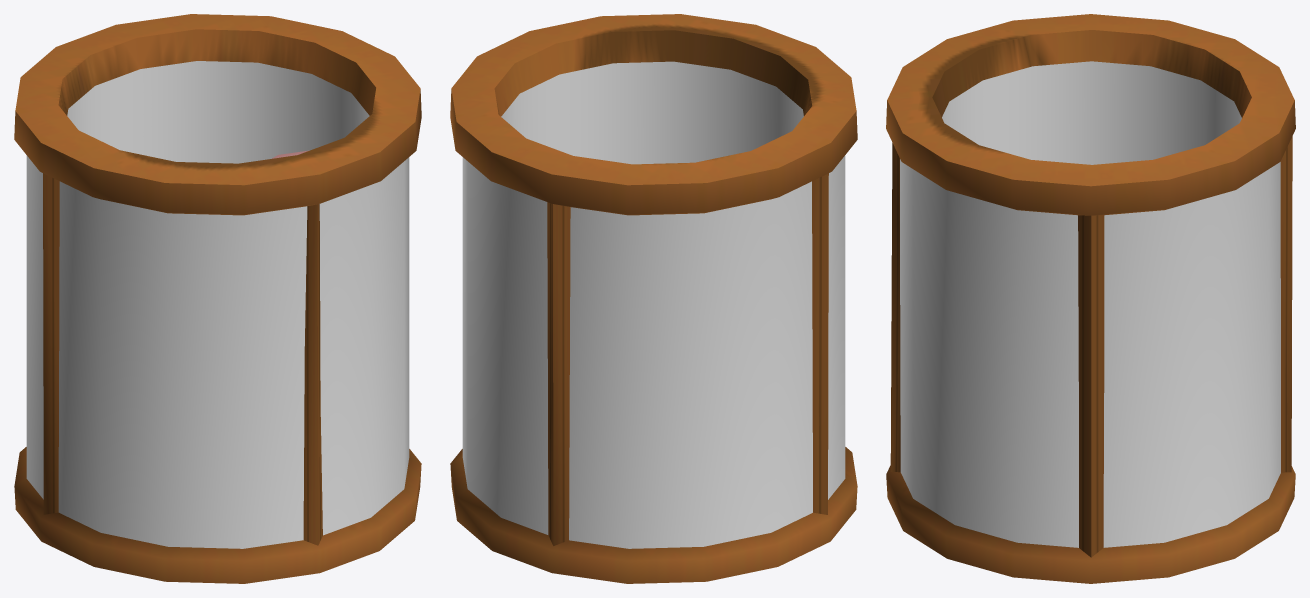
The model's file is Croc Berley Box.fbx.
3 views of the same model, side by side, from view 1: azimuth 30°, elevation 25°; view 2: azimuth 150°, elevation 25°; view 3: azimuth 270°, elevation 25° (orthographic).
Visible parts, largest first — view 1: Box (1); view 2: Box (1); view 3: Box (1).
Boxes of the visible parts, left/top/right/bottom form: Box (1): left=14, top=14, right=421, bottom=583; Box (1): left=450, top=14, right=857, bottom=583; Box (1): left=886, top=14, right=1295, bottom=583.
Bounding box in the file's own units: 0.8237 × 0.89 × 0.8237.
